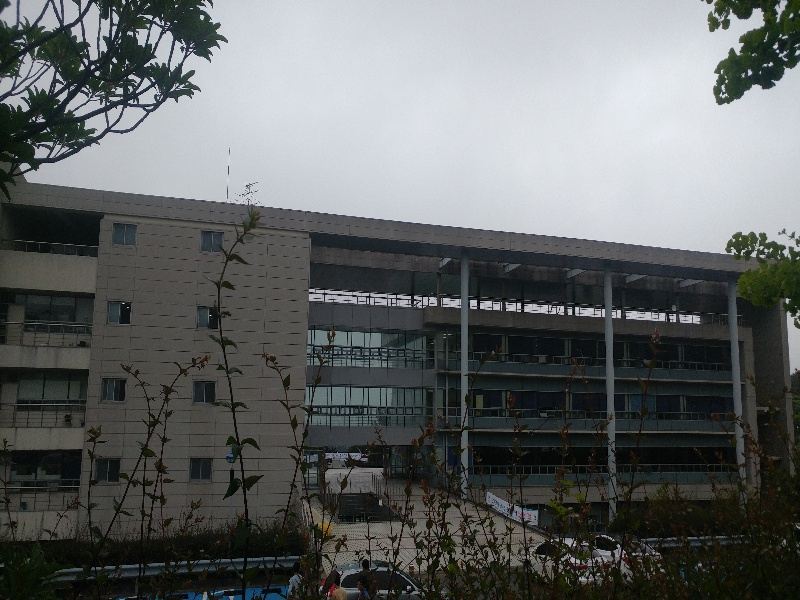Engineering College Building 4: (6, 184, 759, 489), (318, 247, 709, 469)
